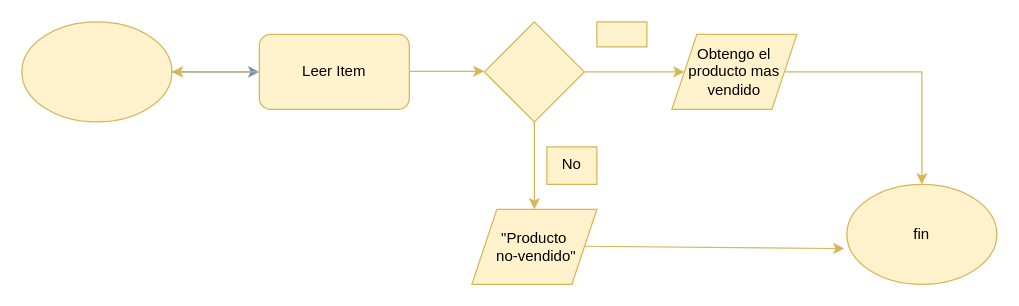
Some shapes in this 1019 by 306 pixel diagram are drawn without their labels. Each missing label, with the box of its shape:
Selección opción: (21, 21, 172, 122)
Si: (596, 21, 647, 47)
Total > total anterior: (483, 21, 584, 122)
